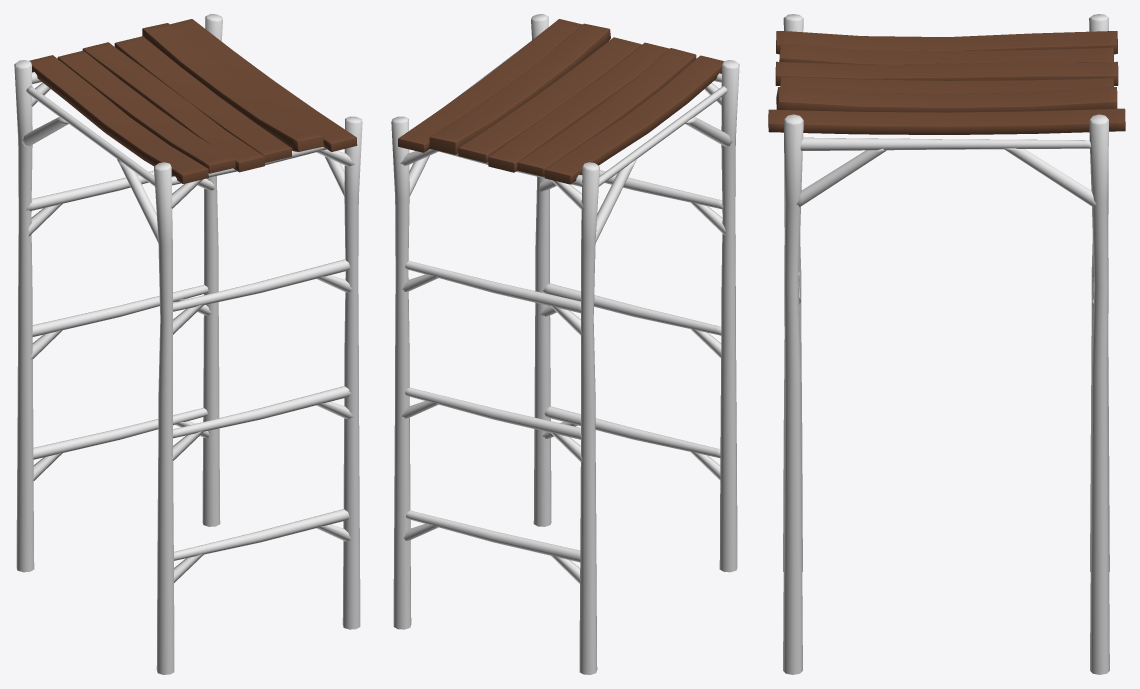
File: Stelling1.fbx
3 views of the same model, side by side, from view 1: azimuth 30°, elevation 25°; view 2: azimuth 150°, elevation 25°; view 3: azimuth 270°, elevation 25° (orthographic). The views are drawn at different scales.
Parts seen in each view (by area): view 1: Cylinder.001; view 2: Cylinder.001; view 3: Cylinder.001.
Part boxes in pixels (x1,y1,x2,y2): Cylinder.001: (14, 14, 362, 674); Cylinder.001: (391, 14, 739, 674); Cylinder.001: (768, 14, 1125, 674).
Bounding box in the file's own units: 333 × 780 × 456.
